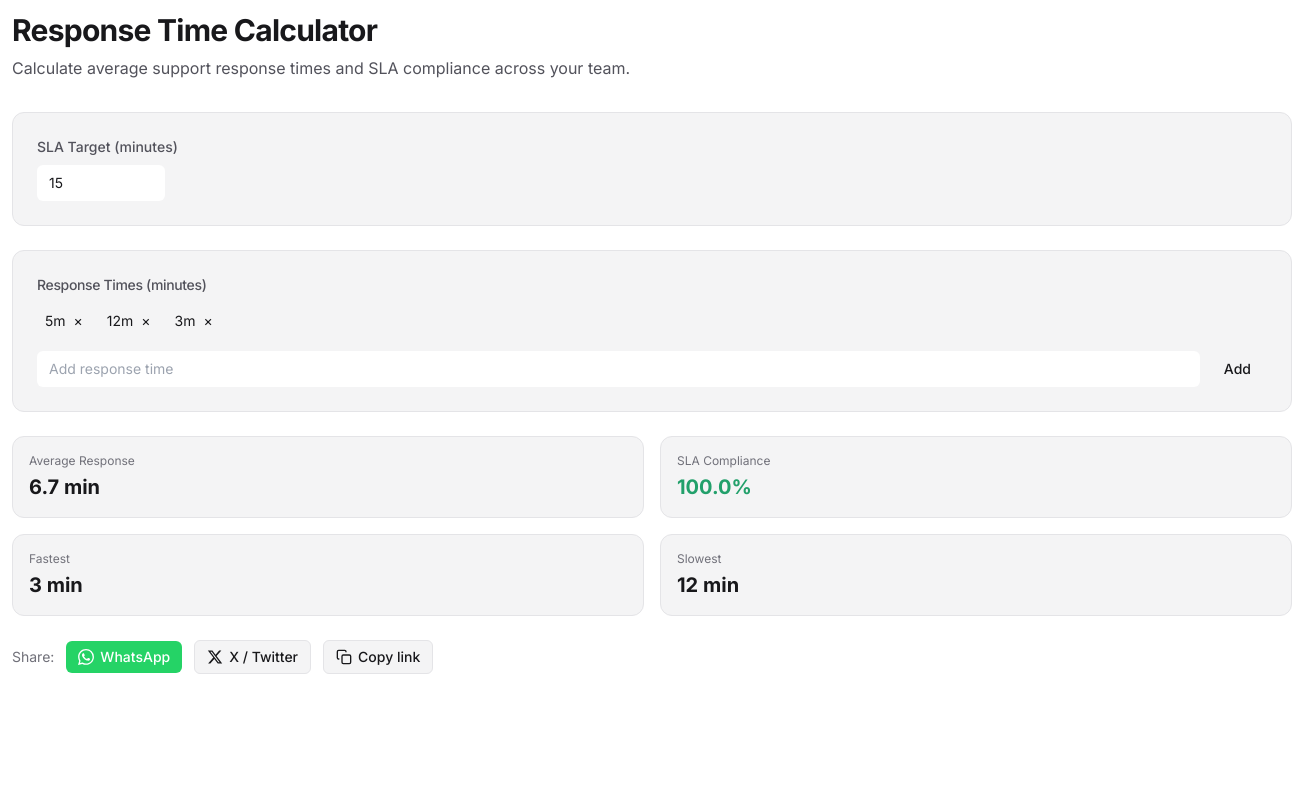
Test case: ResponseTimeCalculator › adds a new entry
Type "10" into the number field with placeholder "Add response time" at (618, 369), box [37,351,1200,387]
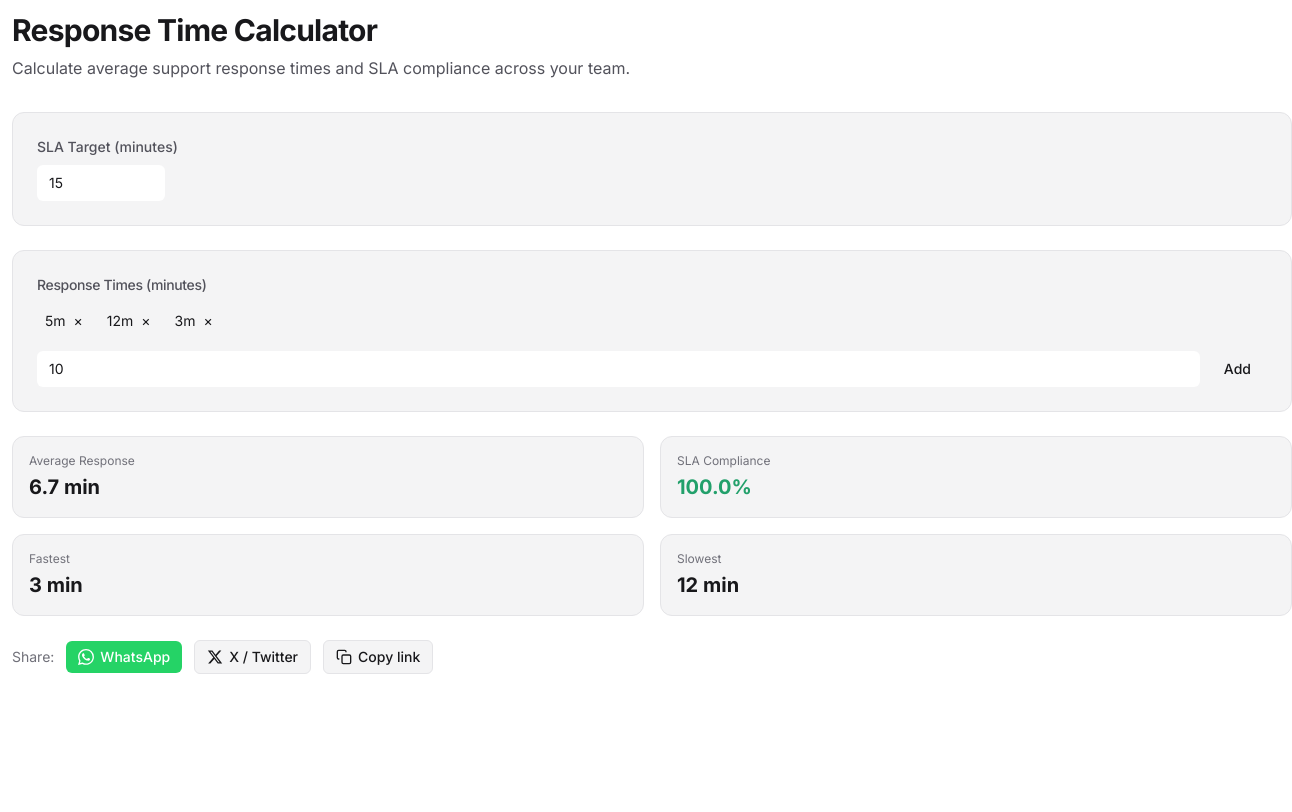
Click the button "Add" at (1237, 369), box [1208,351,1267,387]
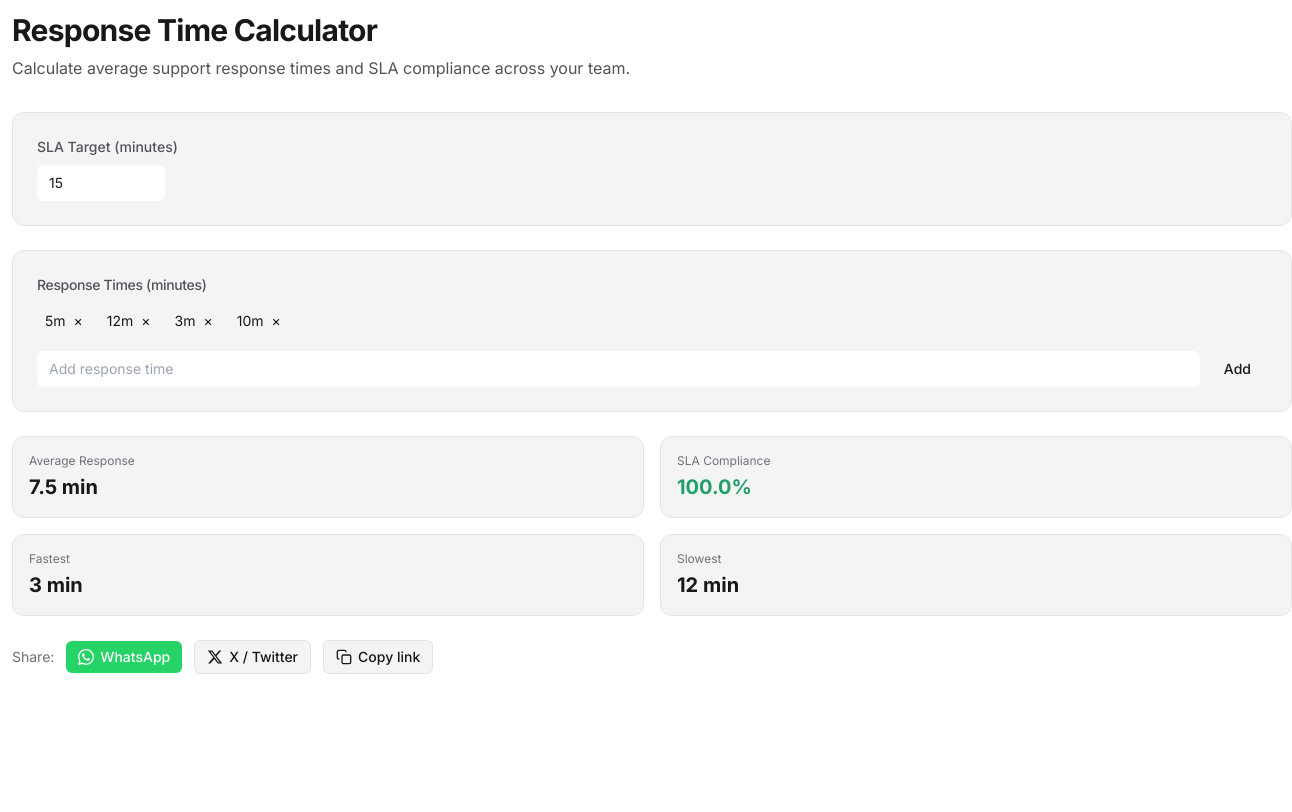
Expected: the text "10m" is shown, [237,311,281,331]
